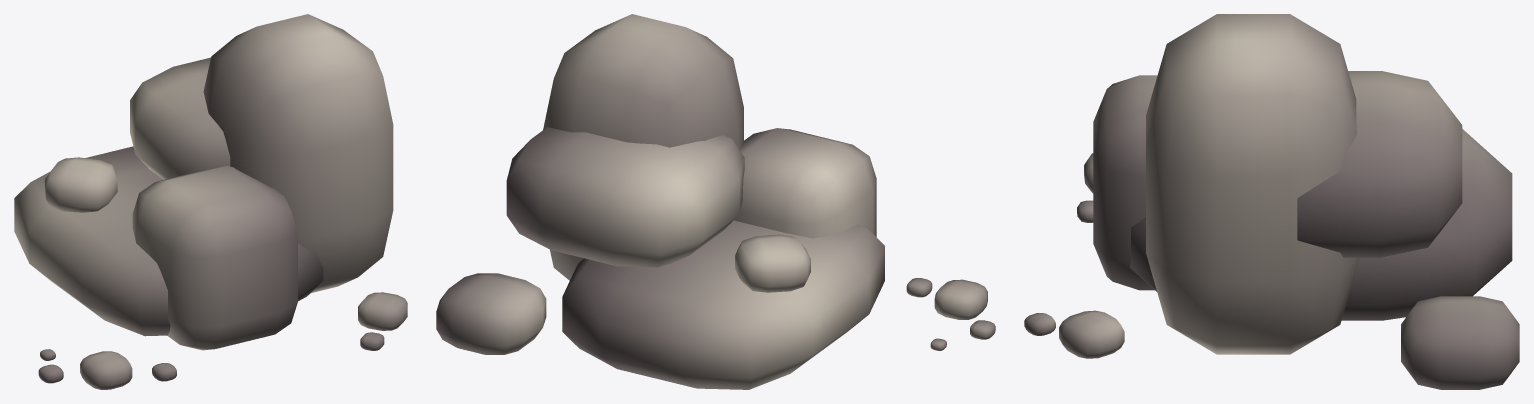
Rendered from Rocks_02.fbx.
3 renders of one model, left to right at view 1: azimuth 30°, elevation 25°; view 2: azimuth 150°, elevation 25°; view 3: azimuth 270°, elevation 25°, orthographic. The views are drawn at different scales.
Visible parts, largest first — view 1: Rocks_02; view 2: Rocks_02; view 3: Rocks_02.
Boxes of the visible parts, x1=… form: Rocks_02: x1=14, y1=14, x2=407, y2=389; Rocks_02: x1=436, y1=14, x2=995, y2=389; Rocks_02: x1=1024, y1=14, x2=1519, y2=389.
Size of the model in its own units: 344 by 207 by 299.
